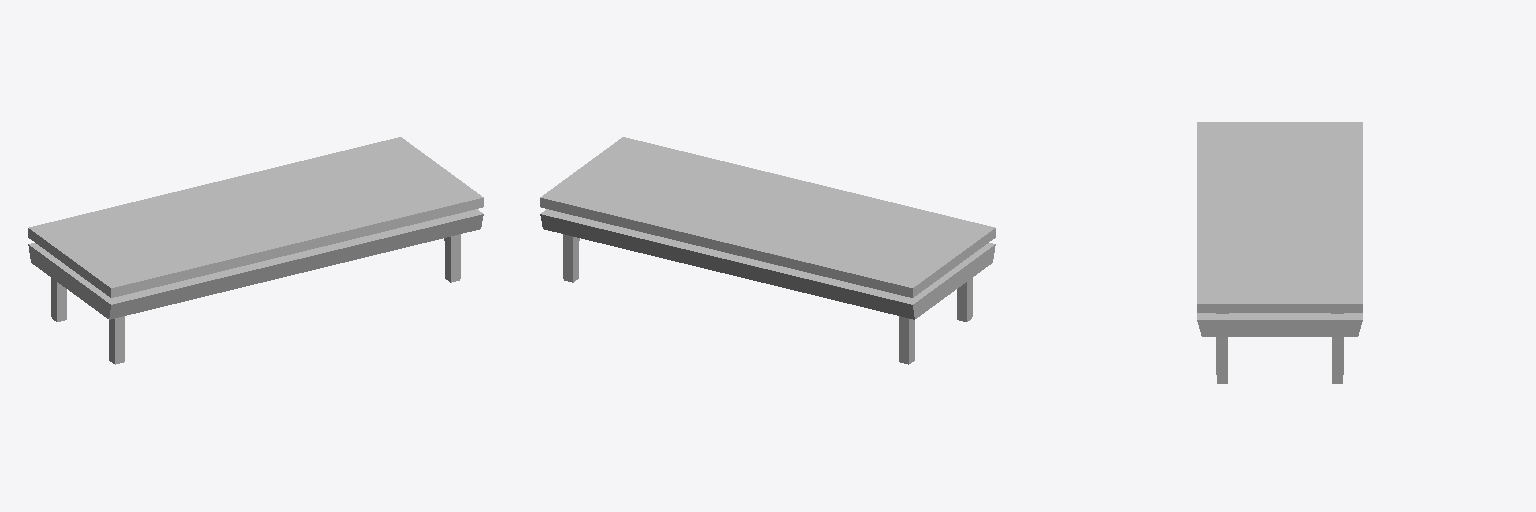
The model's file is Coffee_Table.obj.
The picture shows the model from 3 angles: view 1: azimuth 30°, elevation 25°; view 2: azimuth 150°, elevation 25°; view 3: azimuth 270°, elevation 25°; orthographic projection.
Visible parts, largest first — view 1: Coffee_Table; view 2: Coffee_Table; view 3: Coffee_Table.
Boxes of the visible parts, <box> form: Coffee_Table: <box>28,137,483,364</box>; Coffee_Table: <box>540,137,995,364</box>; Coffee_Table: <box>1197,122,1362,383</box>.
Bounding box in the file's own units: 1.71 × 0.3808 × 0.6601.